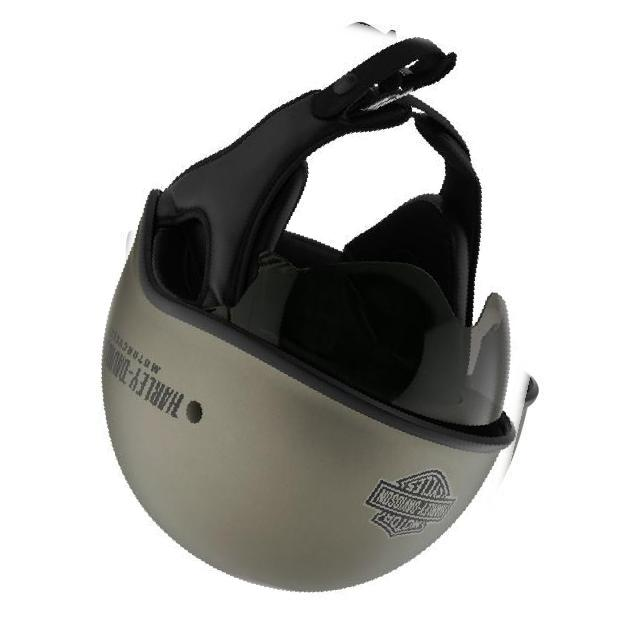helmet: (85, 3, 569, 615)
